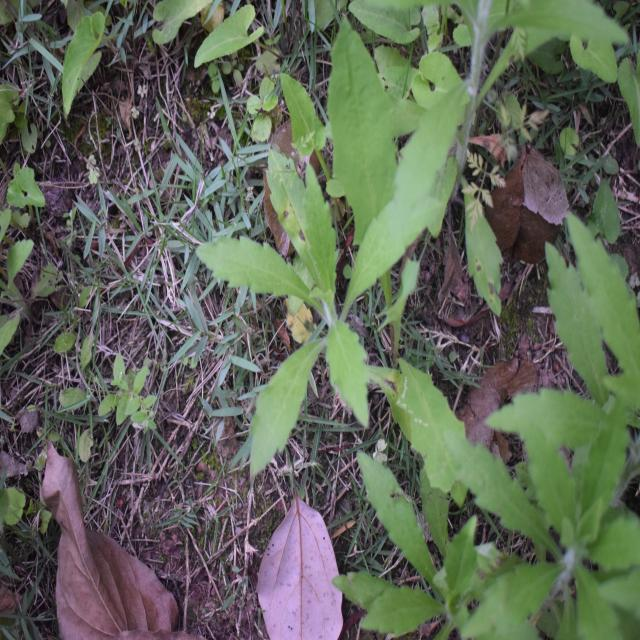horseweed: (222, 154, 428, 434)
